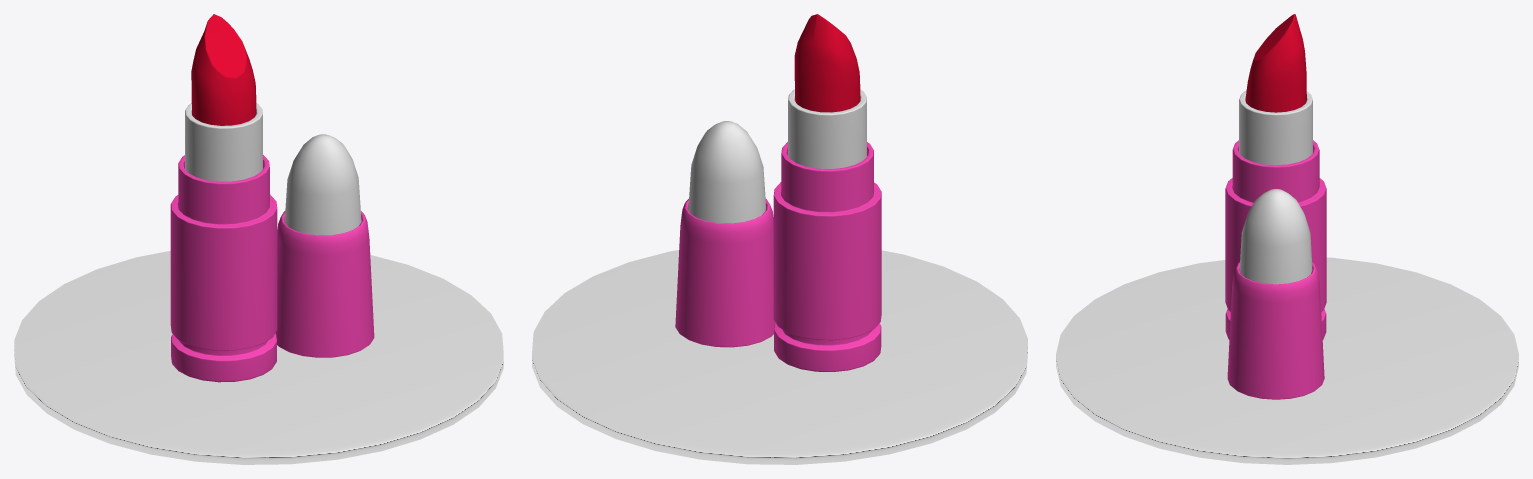
The model's file is uploads_files_2320476_Lipstick.fbx.
The picture shows the model from 3 angles, left to right: view 1: azimuth 30°, elevation 25°; view 2: azimuth 150°, elevation 25°; view 3: azimuth 270°, elevation 25°; orthographic projection. The views are drawn at different scales.
Parts seen in each view (by area): view 1: Cylinder, Base_01, Top_Base, Metal_Bullet, Lipstick_Bar, Metal_Base_01; view 2: Cylinder, Base_01, Top_Base, Metal_Bullet, Lipstick_Bar, Metal_Base_01; view 3: Cylinder, Top_Base, Base_01, Metal_Bullet, Lipstick_Bar, Metal_Base_01.
Boxes of the visible parts, box(x1,y1,x2,y2) form: Cylinder: box(14, 251, 503, 464); Base_01: box(170, 155, 277, 382); Top_Base: box(275, 211, 374, 357); Metal_Bullet: box(284, 134, 361, 235); Lipstick_Bar: box(191, 14, 256, 125); Metal_Base_01: box(185, 103, 262, 181); Cylinder: box(532, 250, 1027, 464); Base_01: box(773, 142, 881, 371); Top_Base: box(675, 199, 775, 347); Metal_Bullet: box(688, 121, 765, 223); Lipstick_Bar: box(794, 14, 860, 112); Metal_Base_01: box(788, 89, 866, 168); Cylinder: box(1056, 257, 1518, 464); Top_Base: box(1227, 261, 1324, 399); Base_01: box(1225, 140, 1326, 339); Metal_Bullet: box(1239, 189, 1312, 284); Lipstick_Bar: box(1245, 14, 1306, 112); Metal_Base_01: box(1239, 90, 1312, 165).
Bounding box in the file's own units: 30.84 × 24.59 × 30.84.
